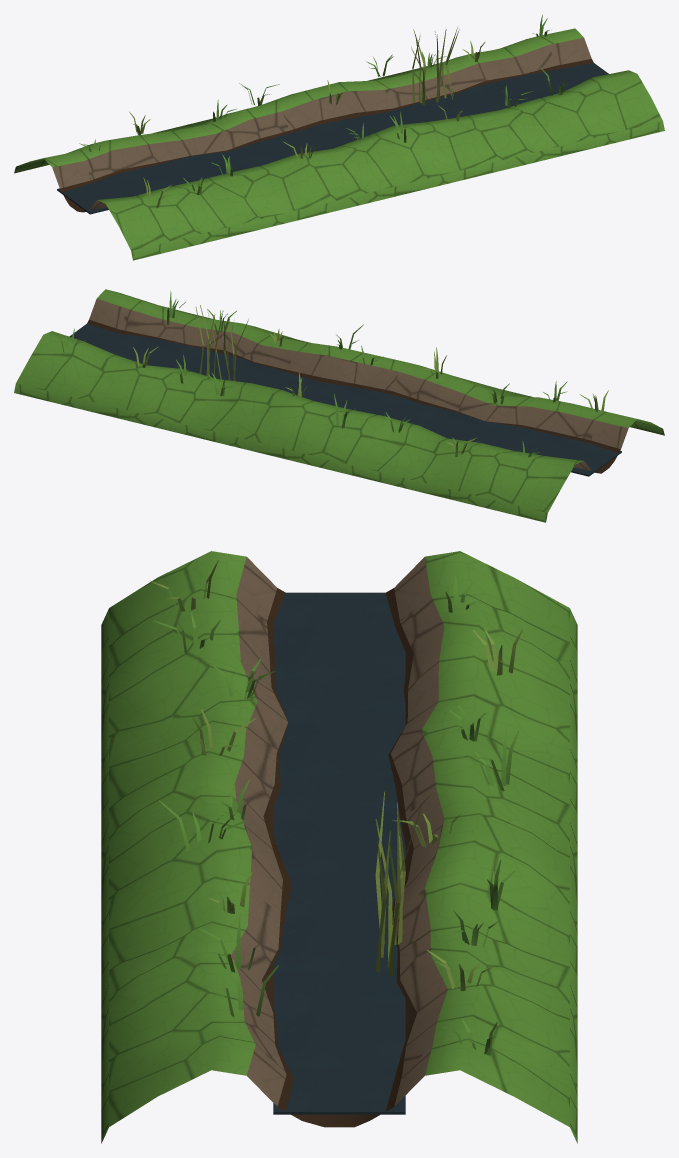
File: irrigation_ditch.glb
3 views of the same model, one above another, from view 1: azimuth 30°, elevation 25°; view 2: azimuth 150°, elevation 25°; view 3: azimuth 270°, elevation 25° (orthographic). The views are drawn at different scales.
Parts seen in each view (by area): view 1: irrigation_ditch; view 2: irrigation_ditch; view 3: irrigation_ditch.
Boxes of the visible parts, x1=… form: irrigation_ditch: x1=14, y1=14, x2=664, y2=260; irrigation_ditch: x1=14, y1=289, x2=664, y2=522; irrigation_ditch: x1=101, y1=551, x2=577, y2=1143.
Bounding box in the file's own units: 8 × 1.22 × 3.1.
Materials: 8 (8 with a texture image).
